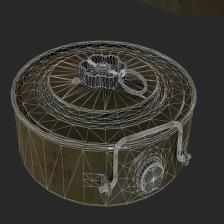TM-46: (3, 35, 222, 209)
